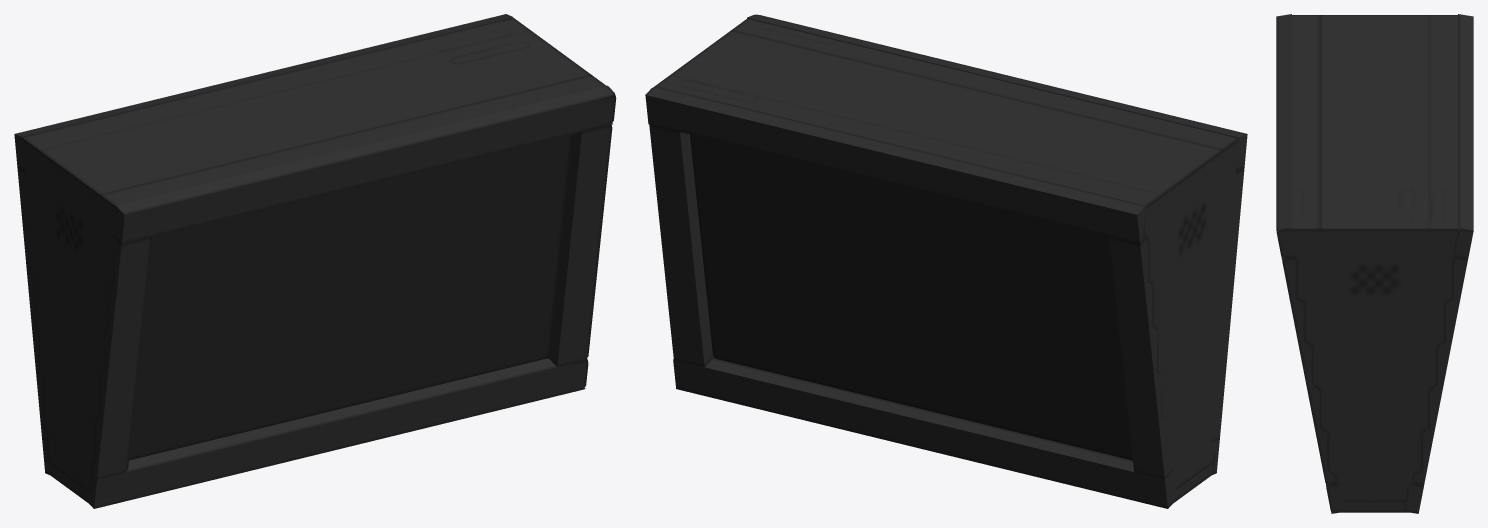
Rendered from pidspole_2.obj.
3 renders of one model, left to right at view 1: azimuth 30°, elevation 25°; view 2: azimuth 150°, elevation 25°; view 3: azimuth 270°, elevation 25°, orthographic. The views are drawn at different scales.
Parts seen in each view (by area): view 1: cube; view 2: cube; view 3: cube.
Part boxes in pixels (box(x1,y1,x2,y2)): cube: box(14, 14, 616, 508); cube: box(645, 14, 1247, 508); cube: box(1276, 14, 1473, 513).
Bounding box in the file's own units: 2 × 1.24 × 0.7781.
1 material, 1 textured.
